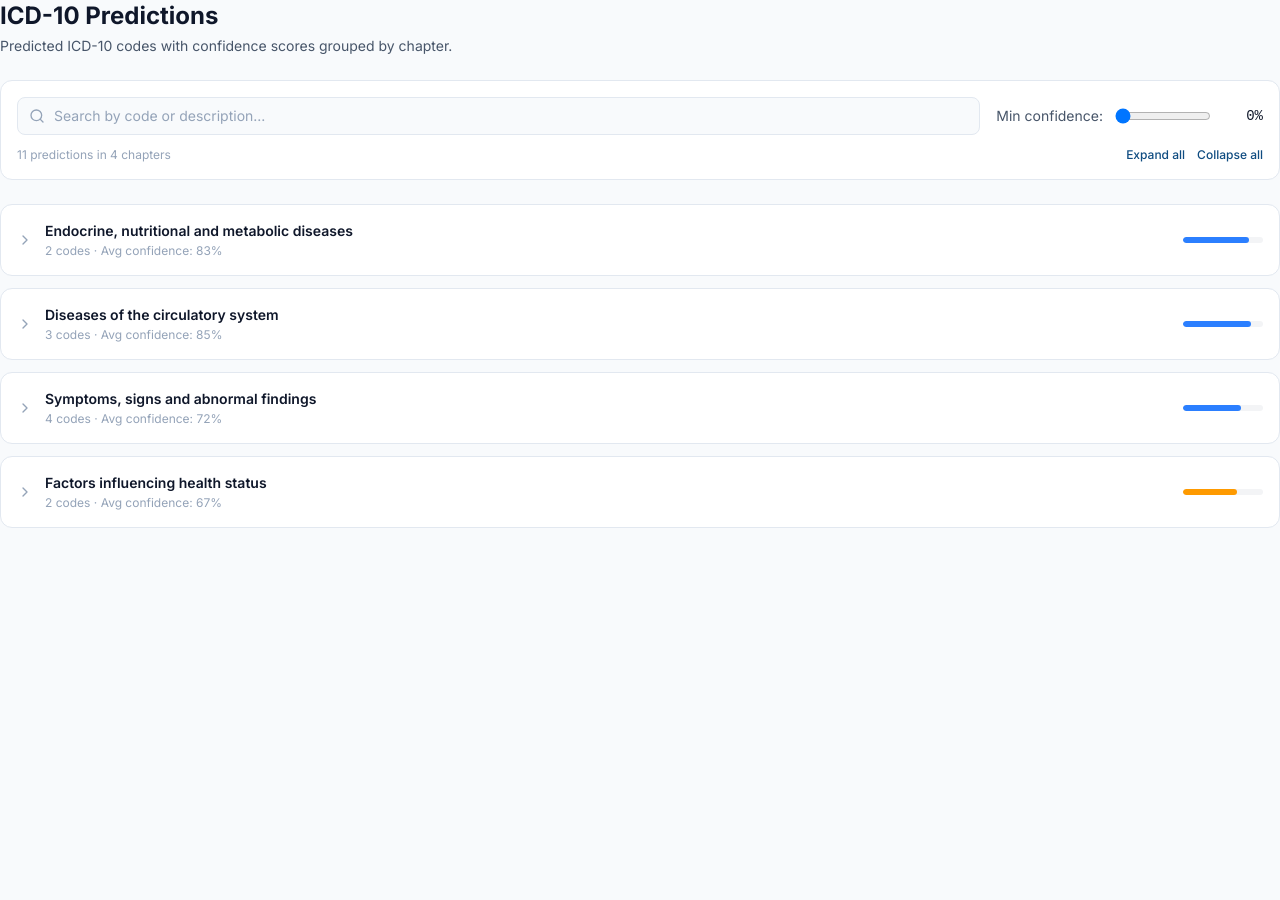
Scenario: ICDResults › shows evidence tags for predictions
This screenshot has width=1280, height=900.
Click the button "Expand all" at (1156, 155), box [1126, 147, 1185, 163]
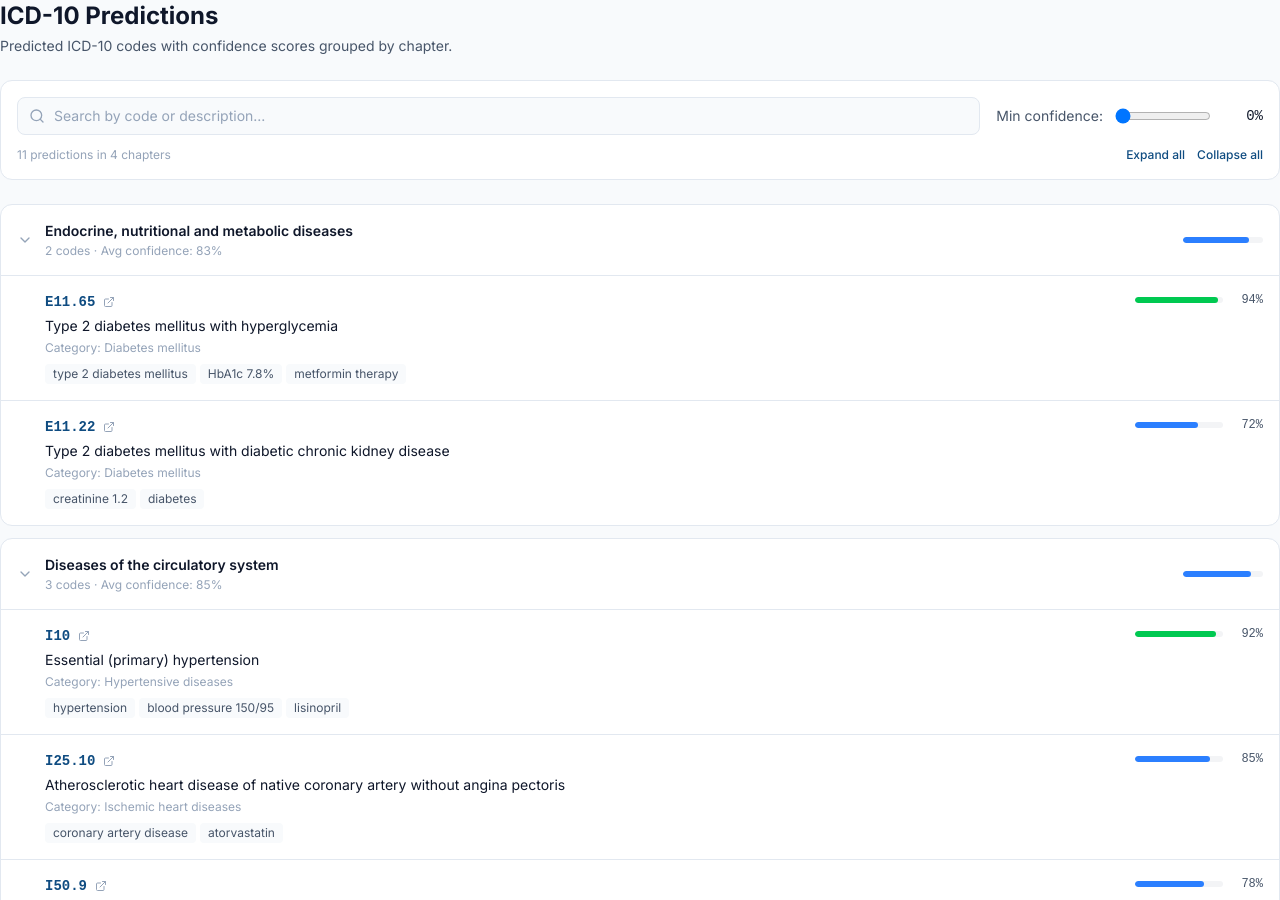
Expected: the text "type 2 diabetes mellitus" is shown, [45, 364, 196, 384]
Expected: the text "HbA1c 7.8%" is shown, [200, 364, 282, 384]
Expected: the text "metformin therapy" is shown, [286, 364, 406, 384]
